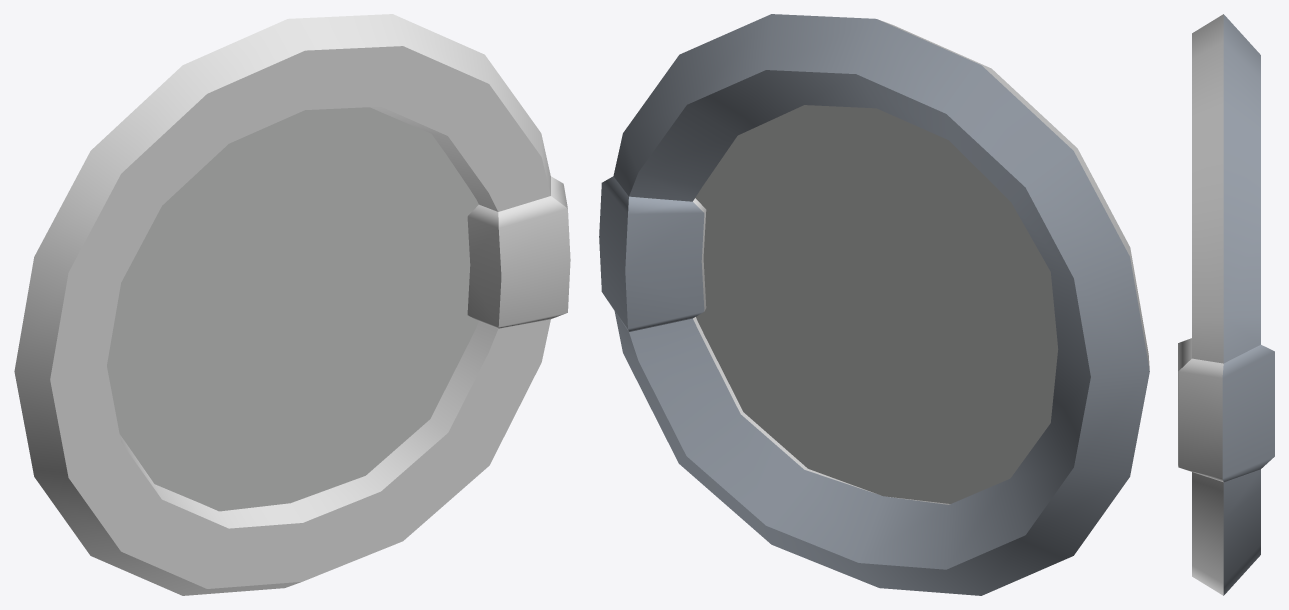
The model's file is SM_Prop_Laundry_WasherFront_Door_01.obj.
3 renders of one model, left to right at view 1: azimuth 30°, elevation 25°; view 2: azimuth 150°, elevation 25°; view 3: azimuth 270°, elevation 25°, orthographic. The views are drawn at different scales.
Visible parts, largest first — view 1: SM_Prop_Laundry_WasherFront_Door_01_Mat_SwatchOverlay_PolygonTow, SM_Prop_Laundry_WasherFront_Door_01_Mat_PolygonTown_Glass; view 2: SM_Prop_Laundry_WasherFront_Door_01_Mat_SwatchOverlay_PolygonTow, SM_Prop_Laundry_WasherFront_Door_01_Mat_PolygonTown_Glass; view 3: SM_Prop_Laundry_WasherFront_Door_01_Mat_SwatchOverlay_PolygonTow.
Part boxes in pixels (x1,y1,x2,y2): SM_Prop_Laundry_WasherFront_Door_01_Mat_SwatchOverlay_PolygonTow: (14, 14, 570, 595); SM_Prop_Laundry_WasherFront_Door_01_Mat_PolygonTown_Glass: (107, 107, 478, 511); SM_Prop_Laundry_WasherFront_Door_01_Mat_SwatchOverlay_PolygonTow: (599, 14, 1149, 595); SM_Prop_Laundry_WasherFront_Door_01_Mat_PolygonTown_Glass: (695, 105, 1058, 503); SM_Prop_Laundry_WasherFront_Door_01_Mat_SwatchOverlay_PolygonTow: (1178, 14, 1274, 595).
Bounding box in the file's own units: 0.6864 × 0.6764 × 0.1136.
Materials: 2 (2 with a texture image).
